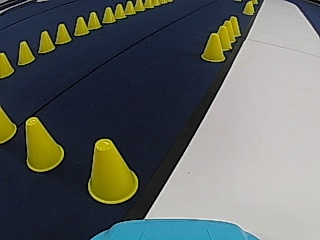cone: (86, 138, 137, 203), (24, 116, 64, 171), (200, 33, 225, 62), (0, 106, 16, 142), (216, 24, 232, 50), (17, 40, 34, 64), (38, 30, 54, 53), (0, 52, 14, 77), (55, 23, 71, 44), (221, 20, 236, 42), (74, 16, 88, 35), (87, 11, 101, 29), (228, 16, 241, 35), (102, 7, 115, 23), (242, 1, 254, 15), (114, 4, 125, 19), (124, 1, 135, 15), (135, 0, 144, 11), (145, 0, 153, 8)
